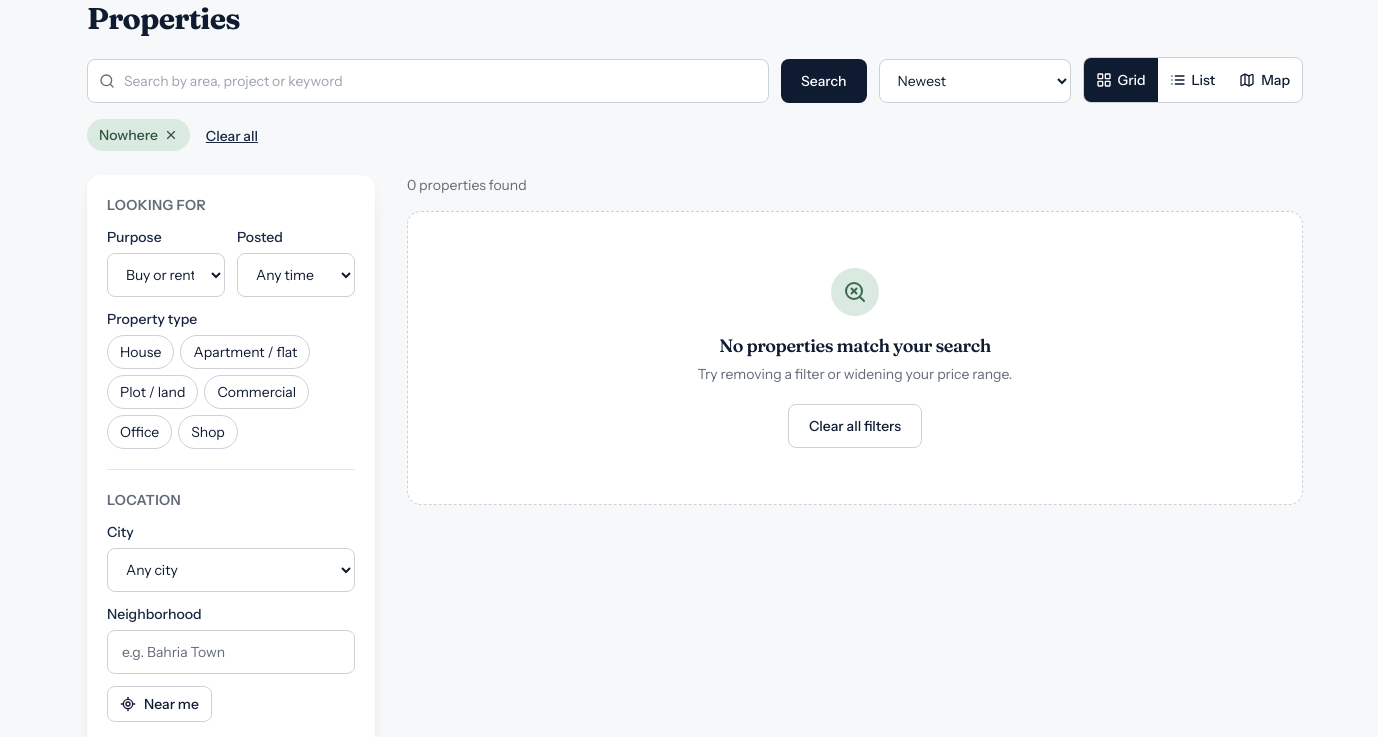
Test: search page › shows the empty state with a way out when nothing matches
This screenshot has width=1378, height=737.
Expected: the heading "No properties match your search" is shown, x1=719 y1=332 x2=991 y2=360
Click the button "Clear all filters": {"x": 855, "y": 426} x1=788 y1=404 x2=922 y2=448
(page scrolled)
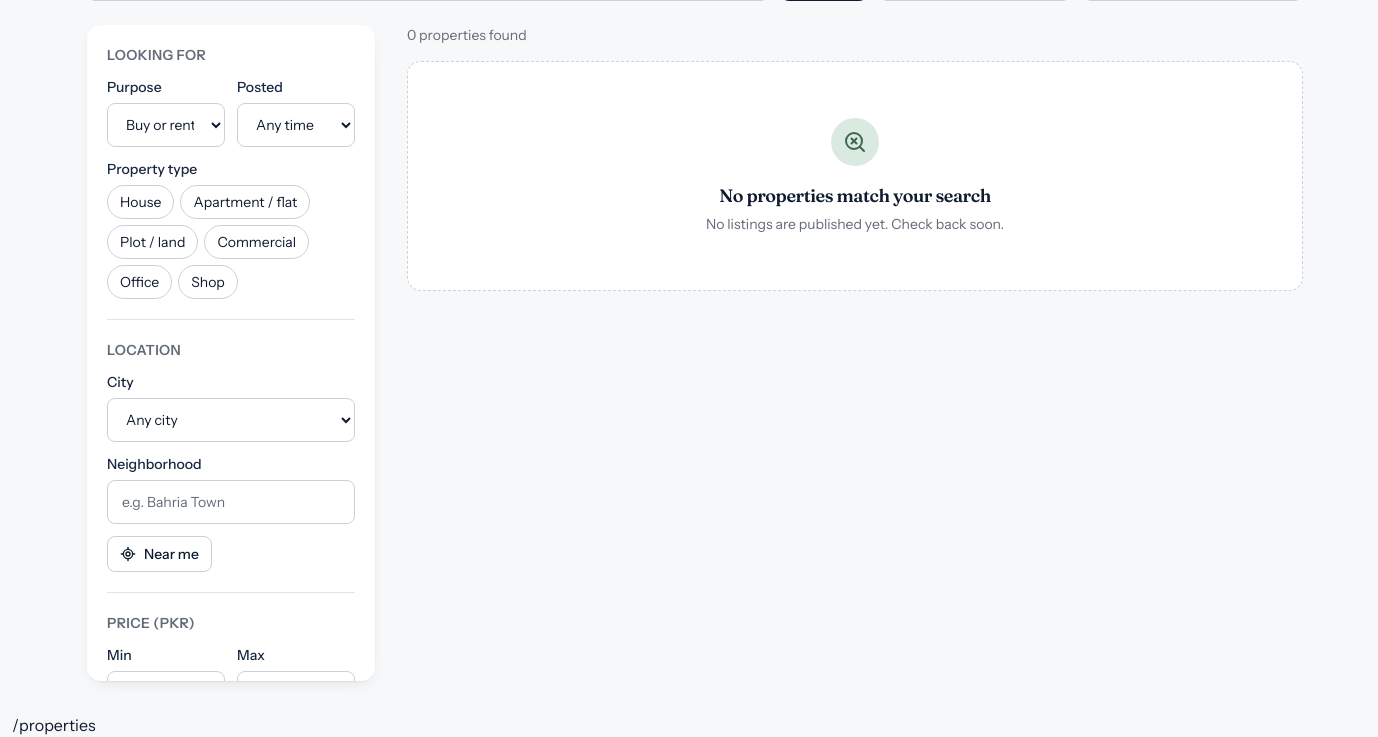
Expected: the text with test id "url" reads "/properties", x1=12 y1=715 x2=94 y2=735
